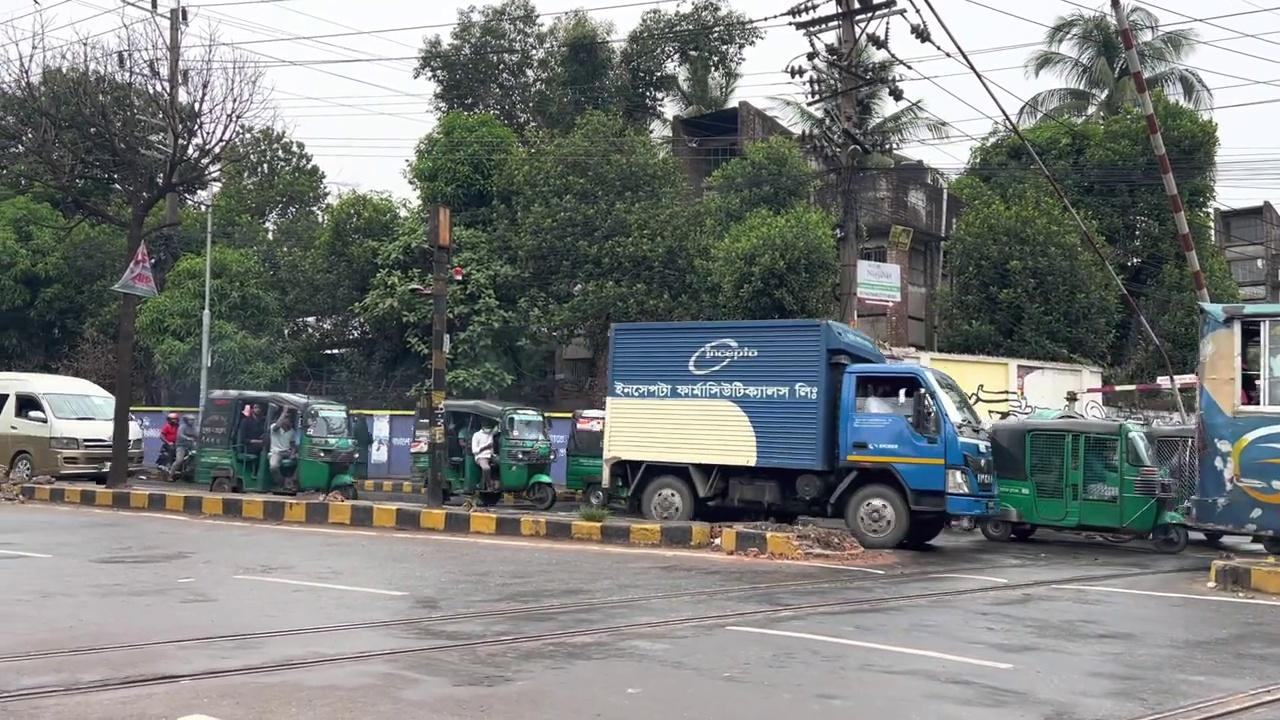Car: (20, 480, 887, 571)
Fence: (267, 413, 298, 492), (237, 403, 265, 479), (167, 413, 197, 481), (471, 420, 496, 491), (156, 411, 179, 469)
Garbage: (1109, 0, 1212, 303), (425, 202, 451, 508), (197, 204, 213, 429)
Rickshaw: (587, 317, 999, 549), (974, 381, 1197, 553), (1183, 300, 1279, 554), (192, 388, 360, 500), (409, 398, 557, 510)
